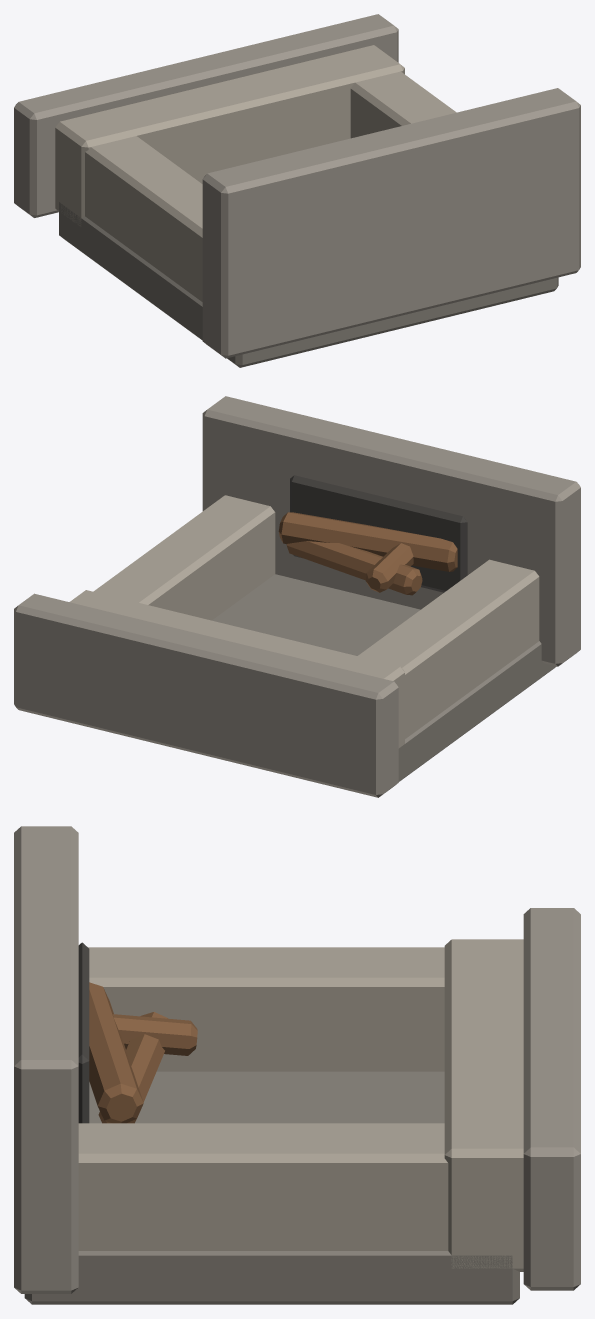
Rendered from props_fireplace.glb.
The picture shows the model from 3 angles, top to bottom: view 1: azimuth 30°, elevation 25°; view 2: azimuth 150°, elevation 25°; view 3: azimuth 270°, elevation 25°; orthographic projection. The views are drawn at different scales.
Visible parts, largest first — view 1: props_fireplace; view 2: props_fireplace; view 3: props_fireplace.
Part boxes in pixels (x1,y1,x2,y2): props_fireplace: (14,14,580,367); props_fireplace: (14,396,580,797); props_fireplace: (14,826,580,1304).
Size of the model in its own units: 1.62 by 0.79 by 1.58.
